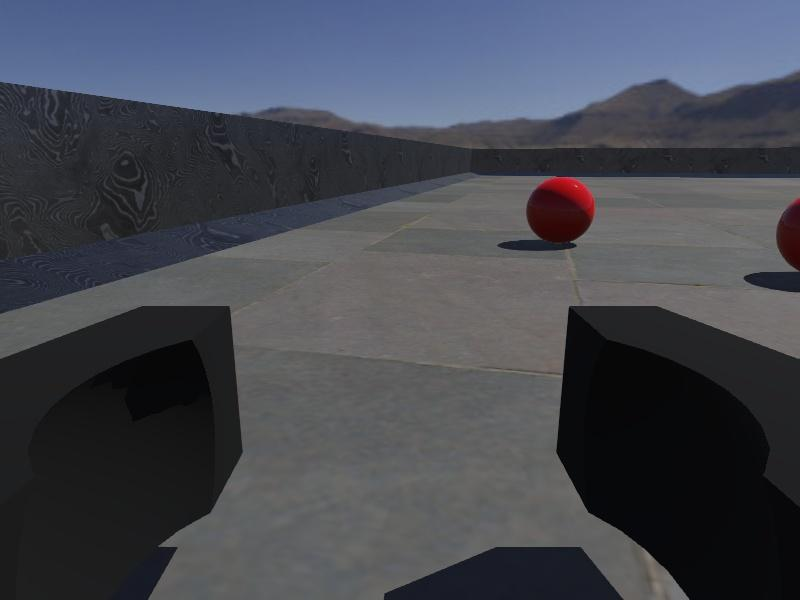red ball: (525, 175, 596, 245)
